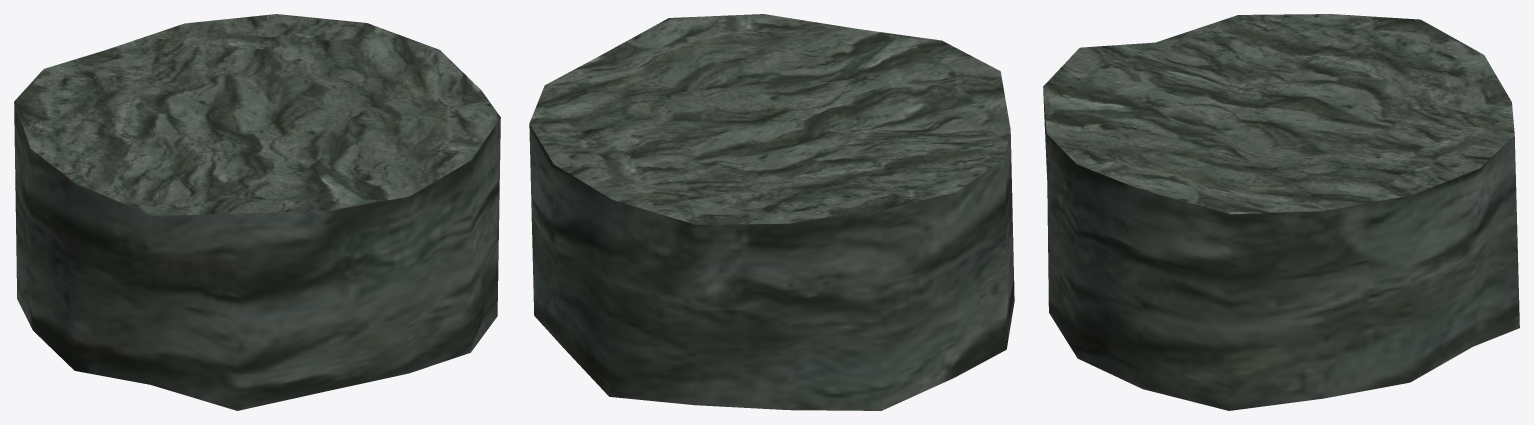
The model's file is rock_1.1.glb.
The picture shows the model from 3 angles, left to right: view 1: azimuth 30°, elevation 25°; view 2: azimuth 150°, elevation 25°; view 3: azimuth 270°, elevation 25°; orthographic projection. The views are drawn at different scales.
Visible parts, largest first — view 1: 1-256 (×2); view 2: 1-256 (×2); view 3: 1-256 (×2).
Boxes of the visible parts, bbox=[...] form: 1-256 (×2): bbox=[14, 14, 500, 410]; 1-256 (×2): bbox=[529, 14, 1014, 410]; 1-256 (×2): bbox=[1043, 14, 1519, 410].
Size of the model in its own units: 10.94 by 5.17 by 10.9.
Materials: 1 (1 with a texture image).
